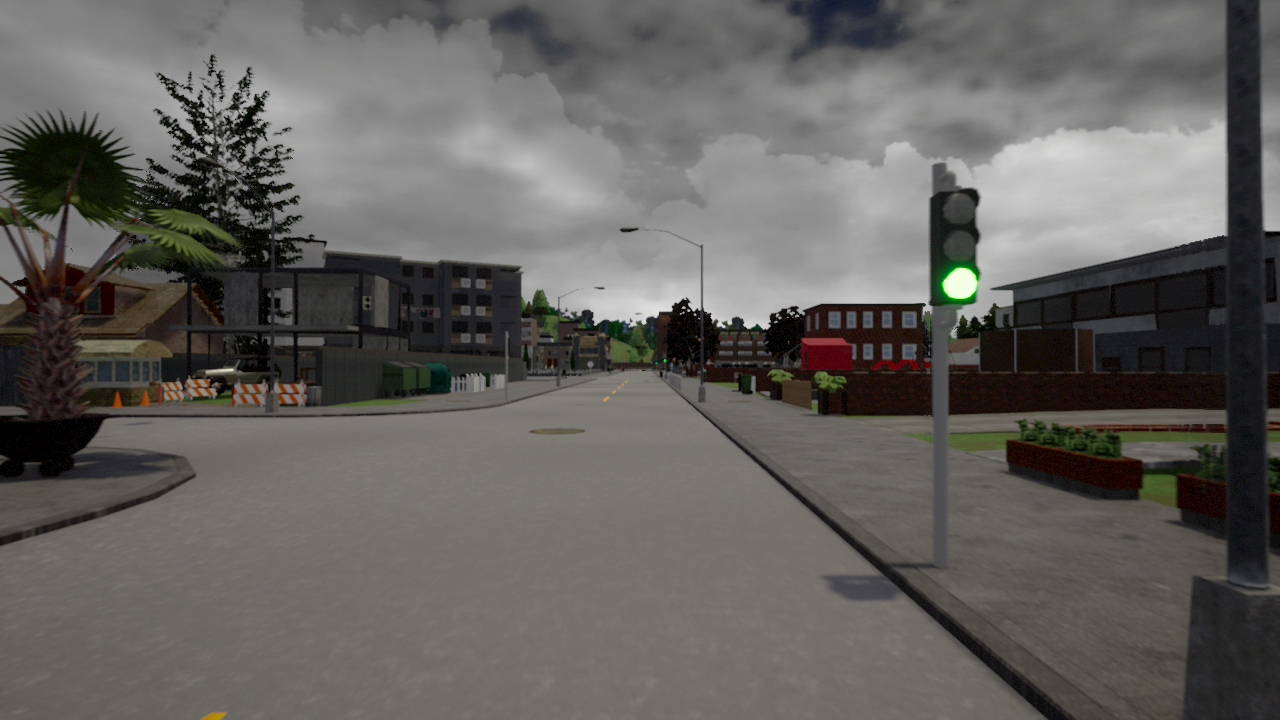green: (931, 184, 982, 304)
